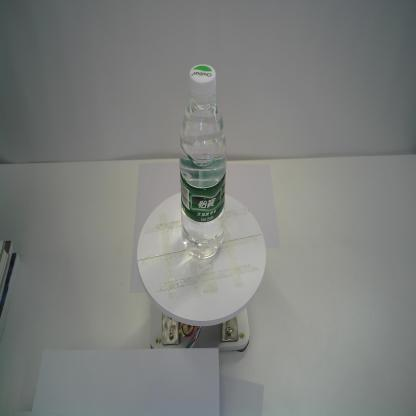Drink: (178, 62, 228, 264)
